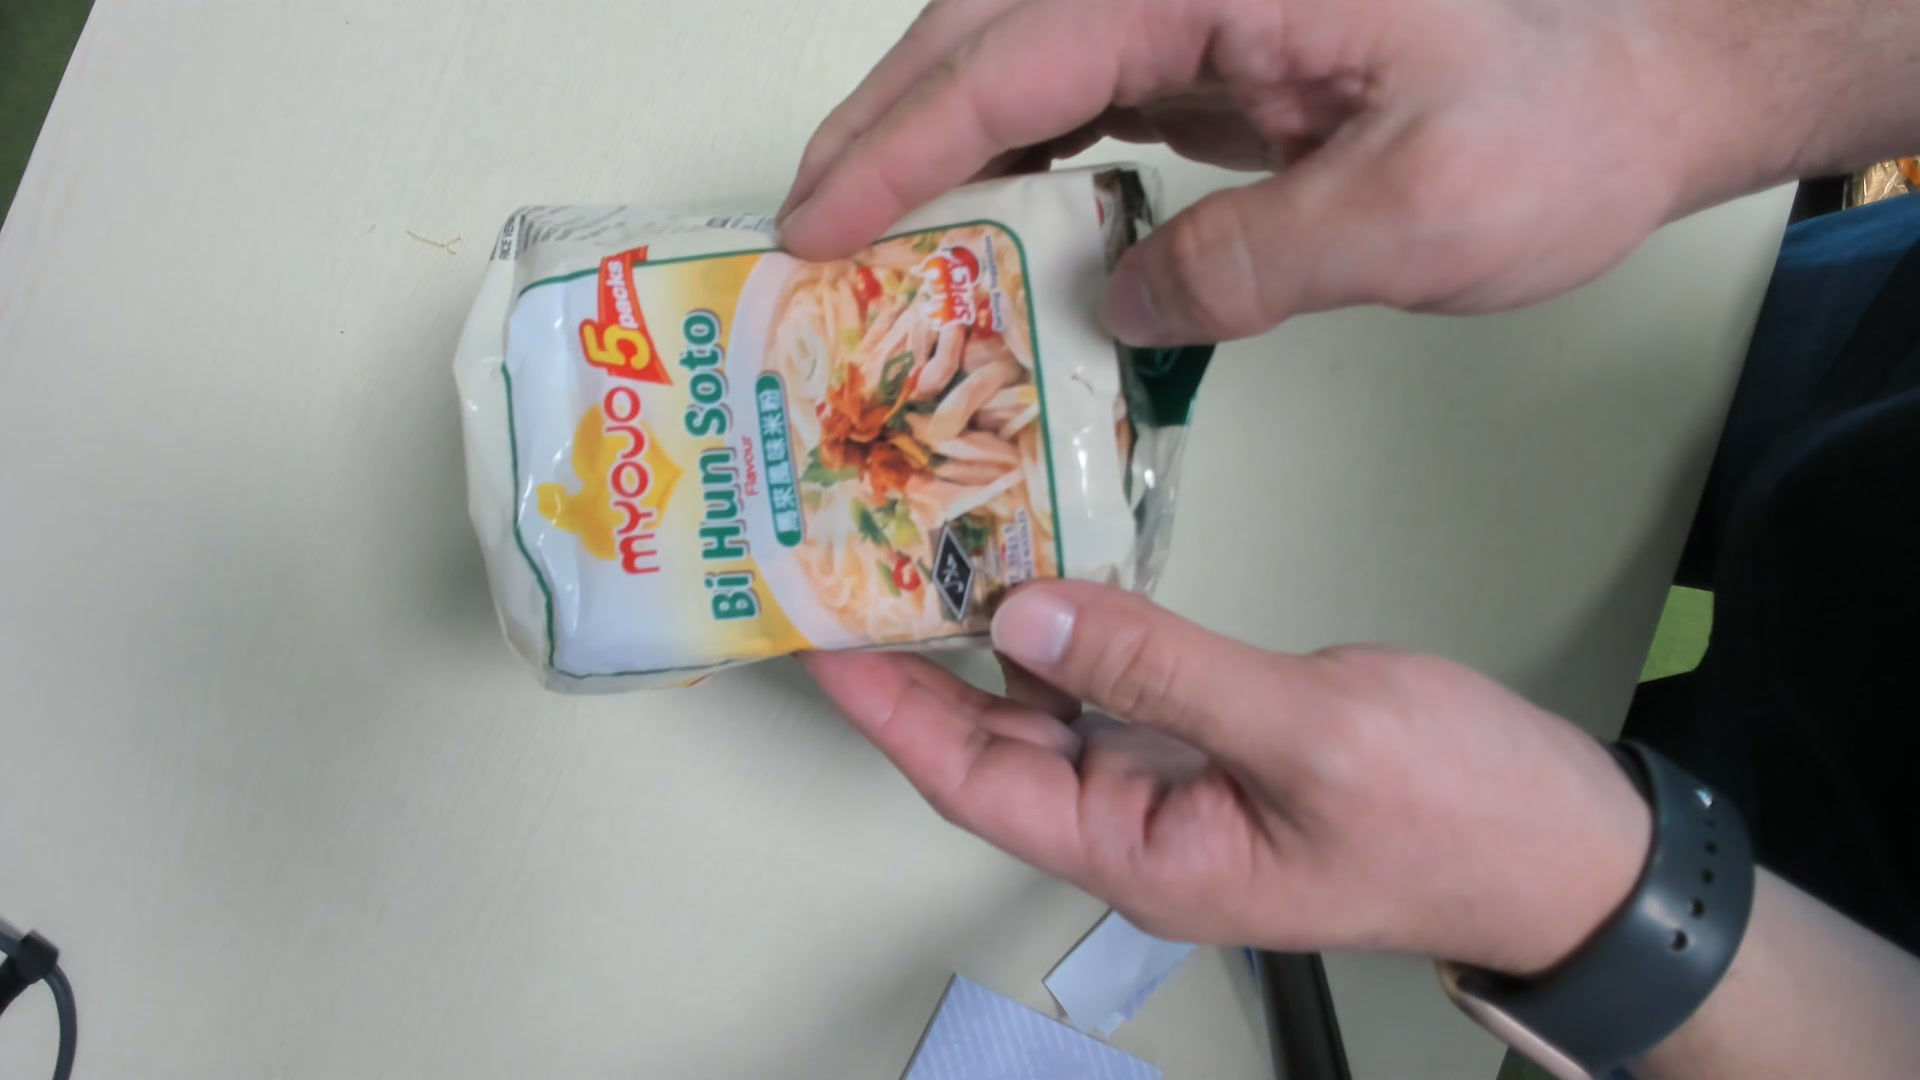OtherNoodles_400-499g_Halal_NonHealthy: (454, 169, 1201, 680)
